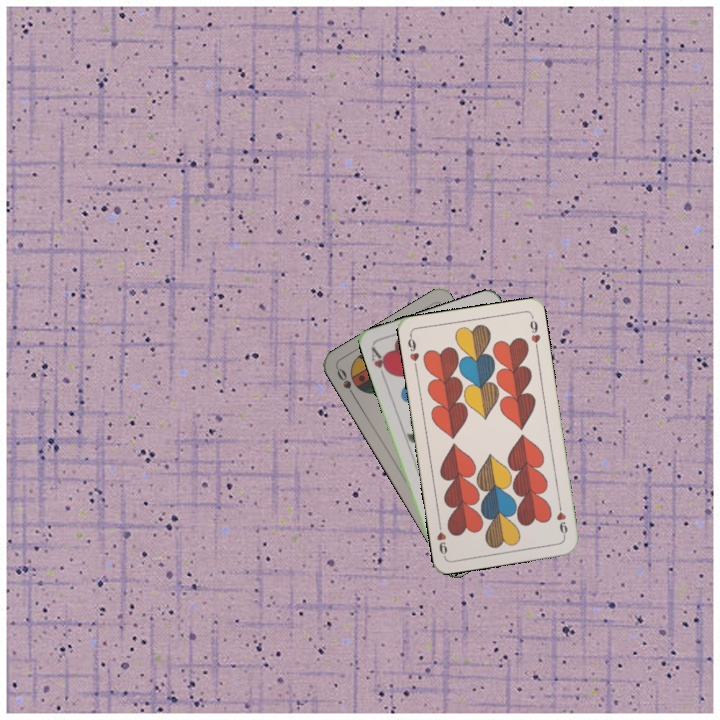H9: (403, 331, 422, 371), (553, 499, 570, 540)
HA: (367, 343, 393, 382)
SO: (333, 364, 359, 401)
